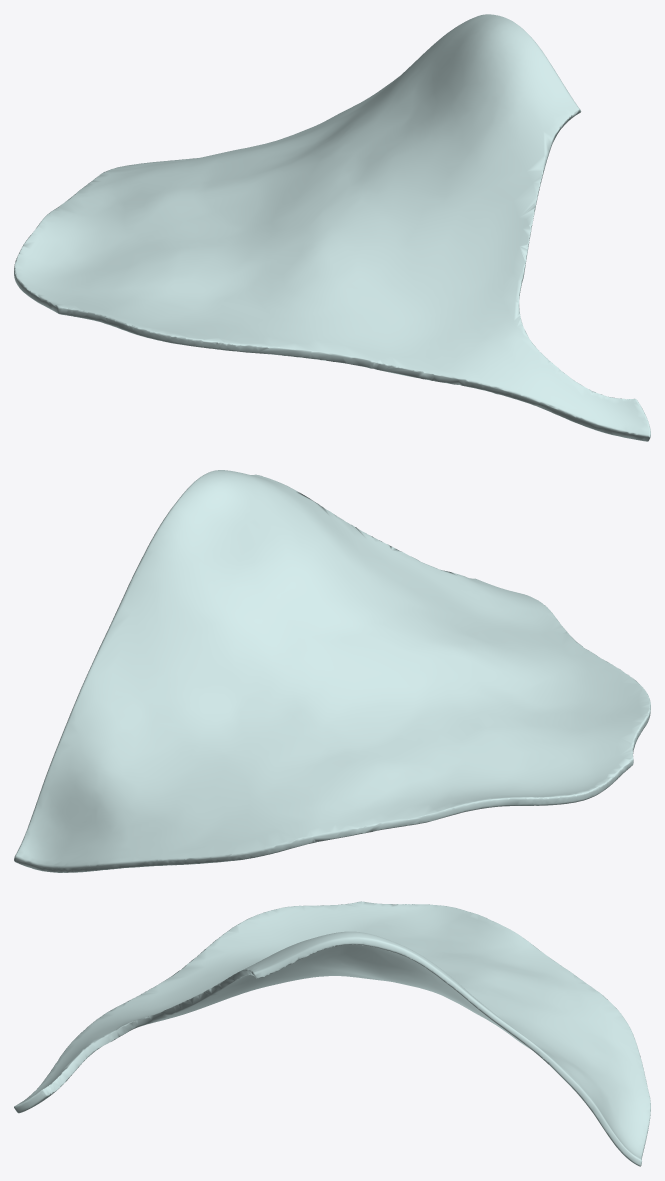
Rendered from Tentorium_cerebelli_right.glb.
3 renders of one model, top to bottom at view 1: azimuth 30°, elevation 25°; view 2: azimuth 150°, elevation 25°; view 3: azimuth 270°, elevation 25°, orthographic. The views are drawn at different scales.
Parts seen in each view (by area): view 1: Tentorium_cerebelli.r_grp1.026; view 2: Tentorium_cerebelli.r_grp1.026; view 3: Tentorium_cerebelli.r_grp1.026.
Part boxes in pixels (box(x1,y1,x2,y2)): Tentorium_cerebelli.r_grp1.026: box(14, 14, 650, 441); Tentorium_cerebelli.r_grp1.026: box(14, 470, 650, 872); Tentorium_cerebelli.r_grp1.026: box(14, 901, 650, 1166).
Bounding box in the file's own units: 0.0592 × 0.0331 × 0.0849.
